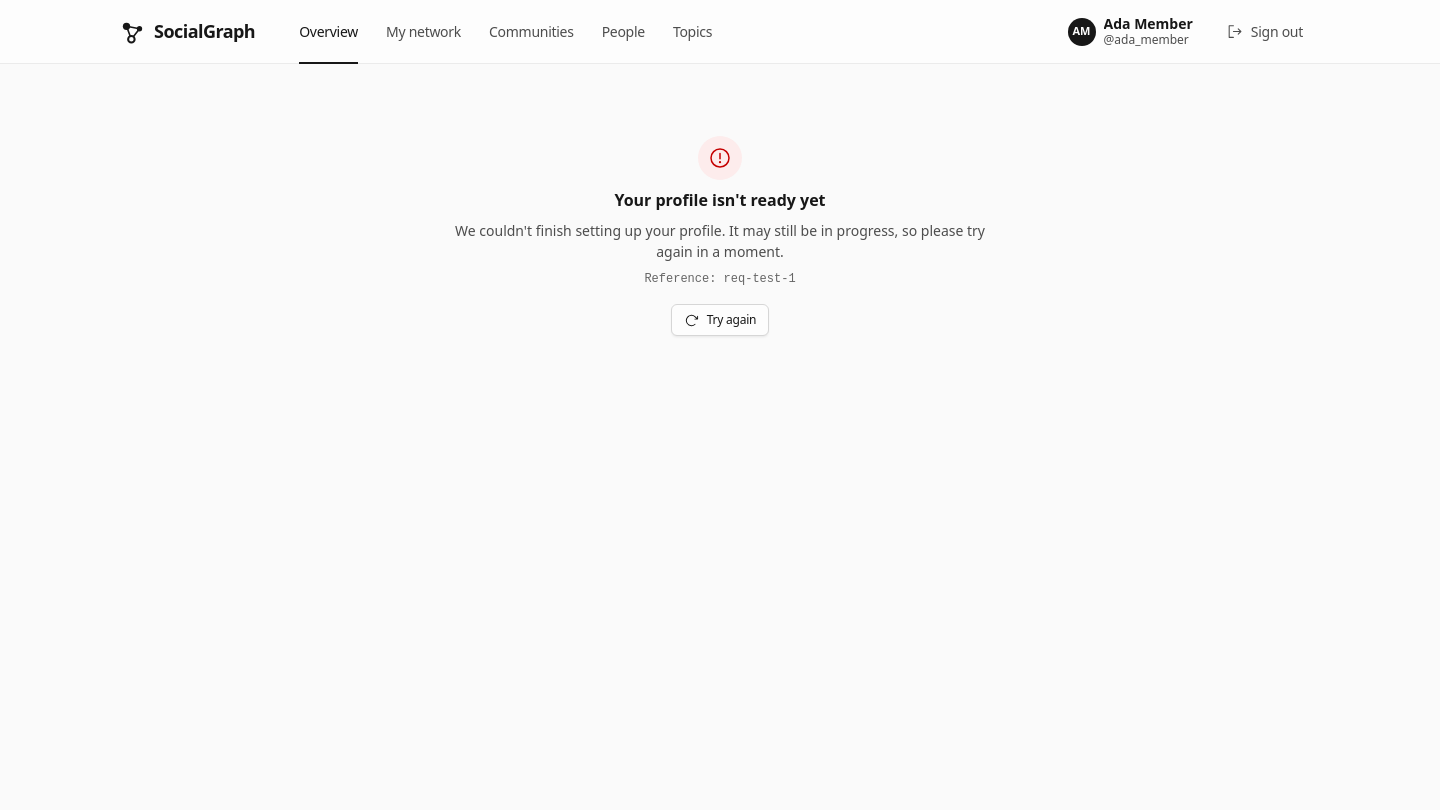
it: ProfileGate › stops polling after a while and lets the member try again
Expected: the text "Your profile isn't ready yet" is shown, [614,188,826,212]
Click the button "Try again" at (720, 320), box [671,304,769,336]
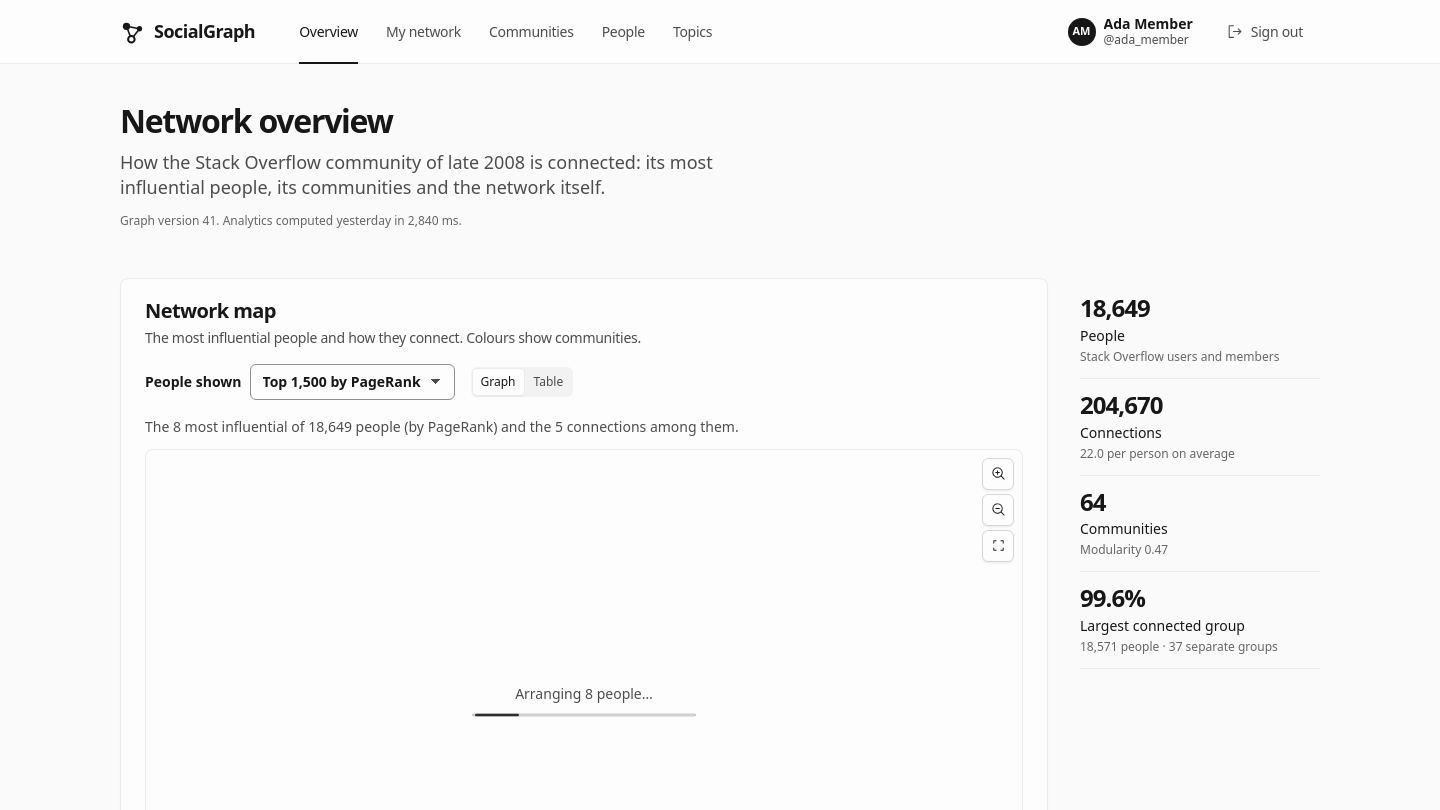
Now the heading "Network overview" is shown, box [120,99,393,142]
